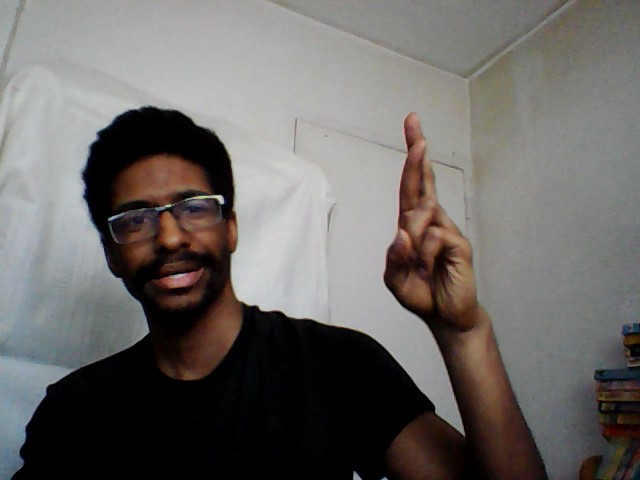r: (377, 105, 483, 330)
